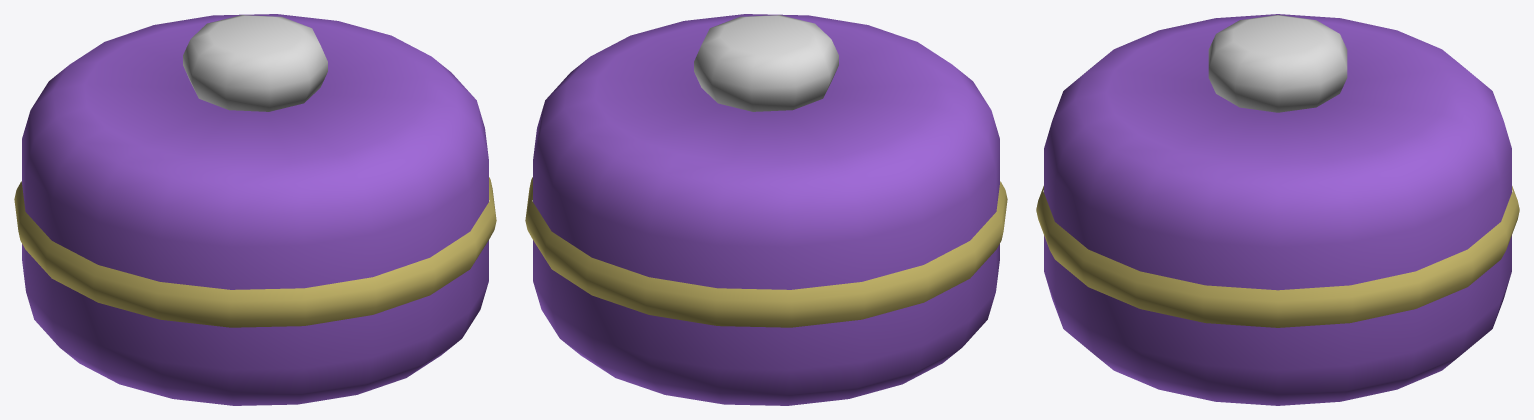
File: spinner_hub.glb
The picture shows the model from 3 angles, left to right: view 1: azimuth 30°, elevation 25°; view 2: azimuth 150°, elevation 25°; view 3: azimuth 270°, elevation 25°; orthographic projection.
Visible parts, largest first — view 1: spinner_hub; view 2: spinner_hub; view 3: spinner_hub.
Part boxes in pixels (box(x1,y1,x2,y2)): spinner_hub: box(14, 14, 496, 405); spinner_hub: box(525, 14, 1007, 405); spinner_hub: box(1036, 14, 1519, 405).
Bounding box in the file's own units: 0.93 × 0.62 × 0.93.
